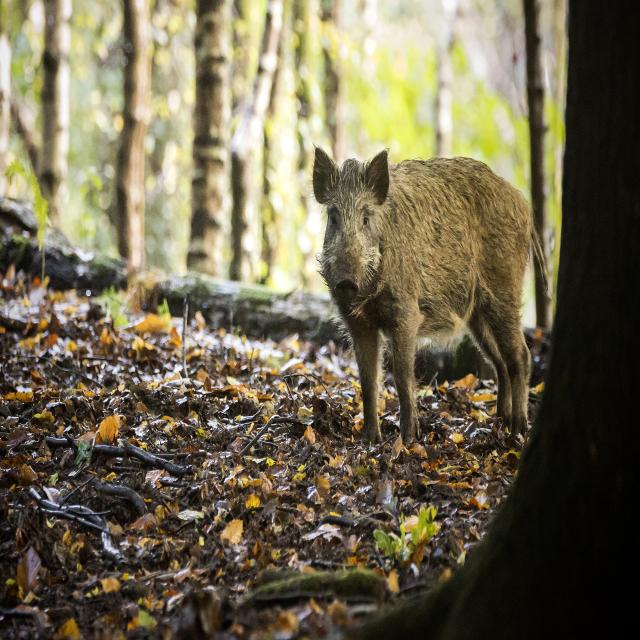Boar: (310, 146, 542, 430)
